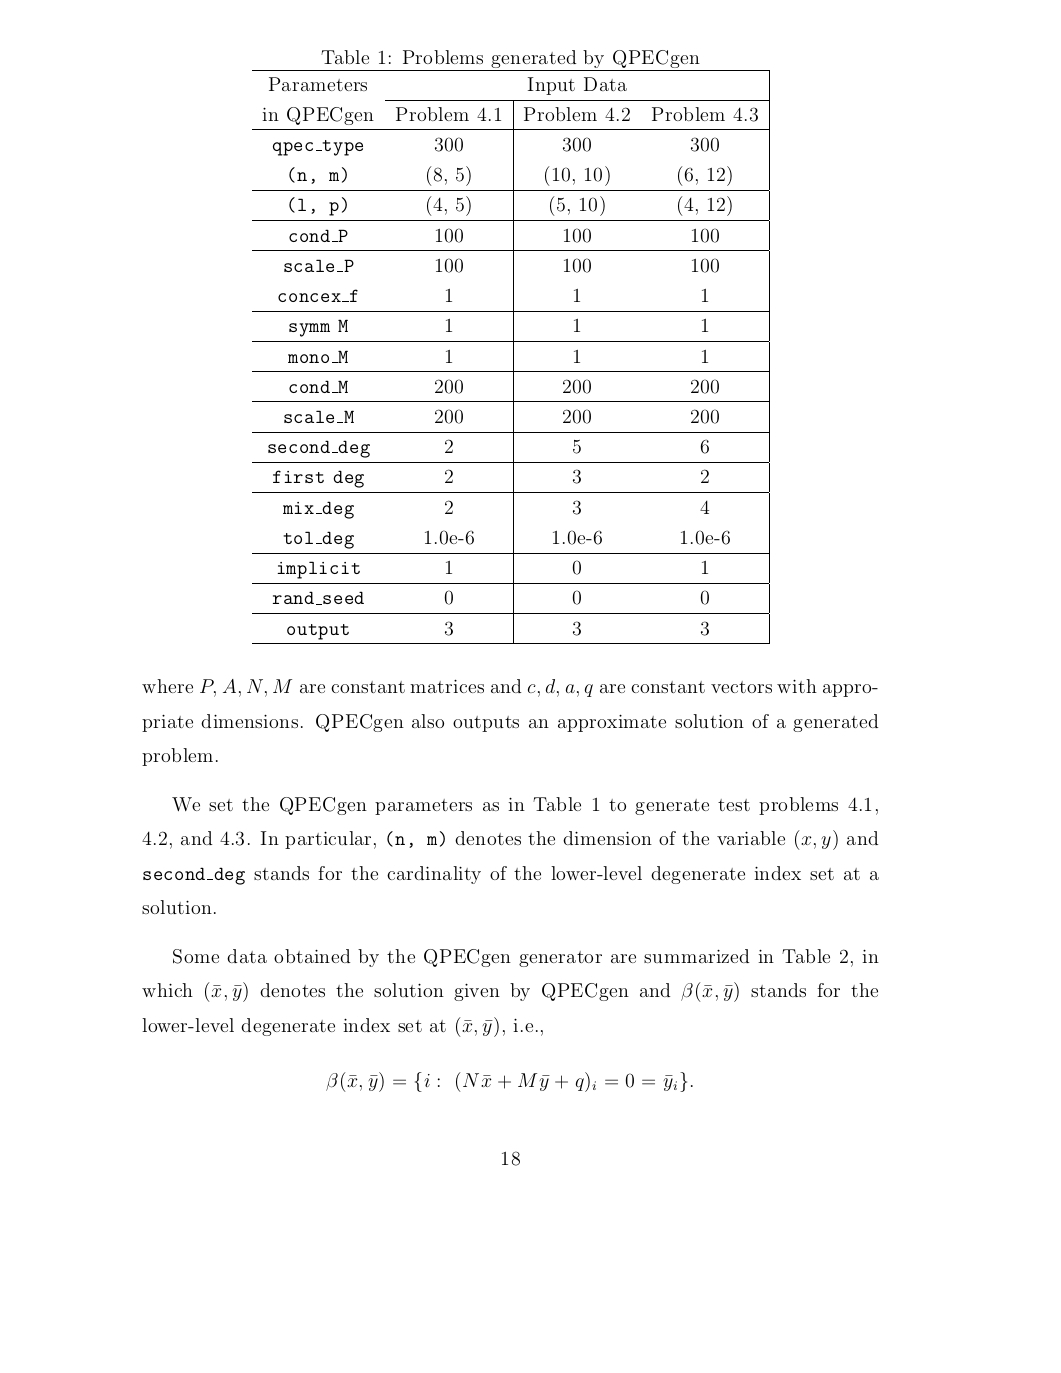Table: (252, 70, 769, 643)
formula: (327, 1071, 692, 1092)
